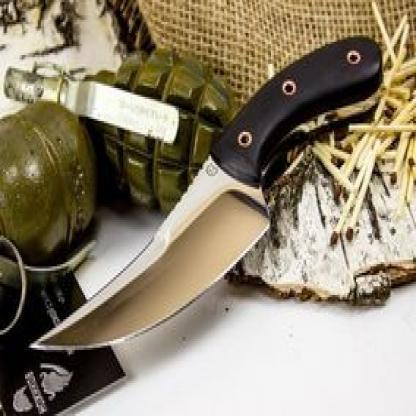Grenade: (4, 50, 252, 221), (1, 96, 93, 338)
Knife: (28, 34, 383, 352)
